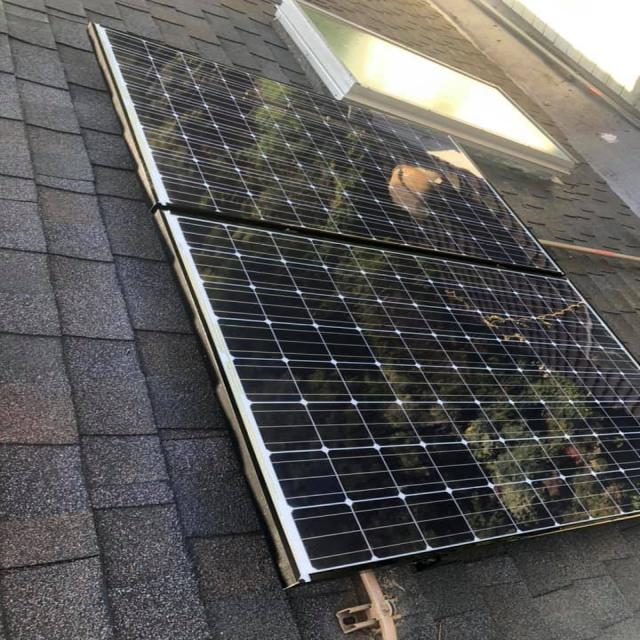no faulty: (169, 209, 637, 569), (103, 23, 555, 268)
